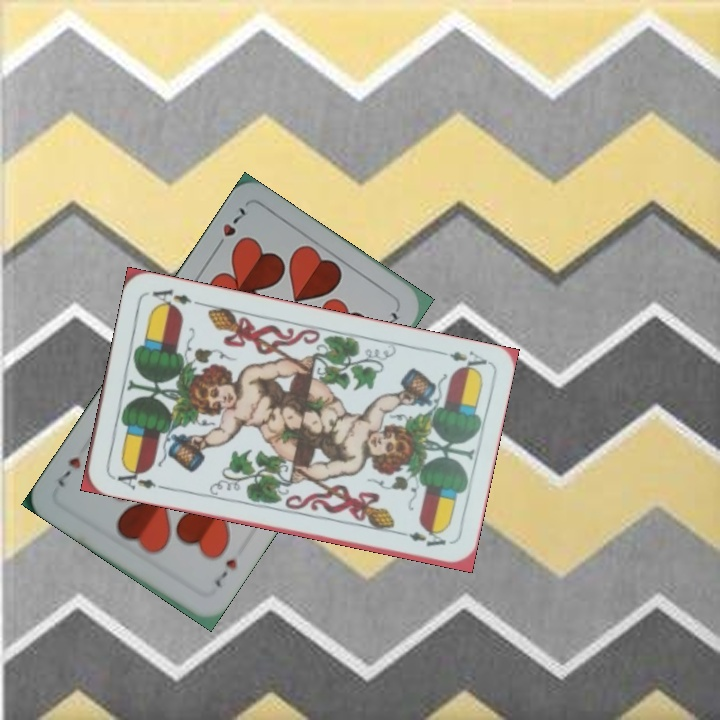EA: (108, 463, 167, 493), (431, 346, 490, 376)
H7: (210, 203, 248, 254), (210, 554, 240, 590)
